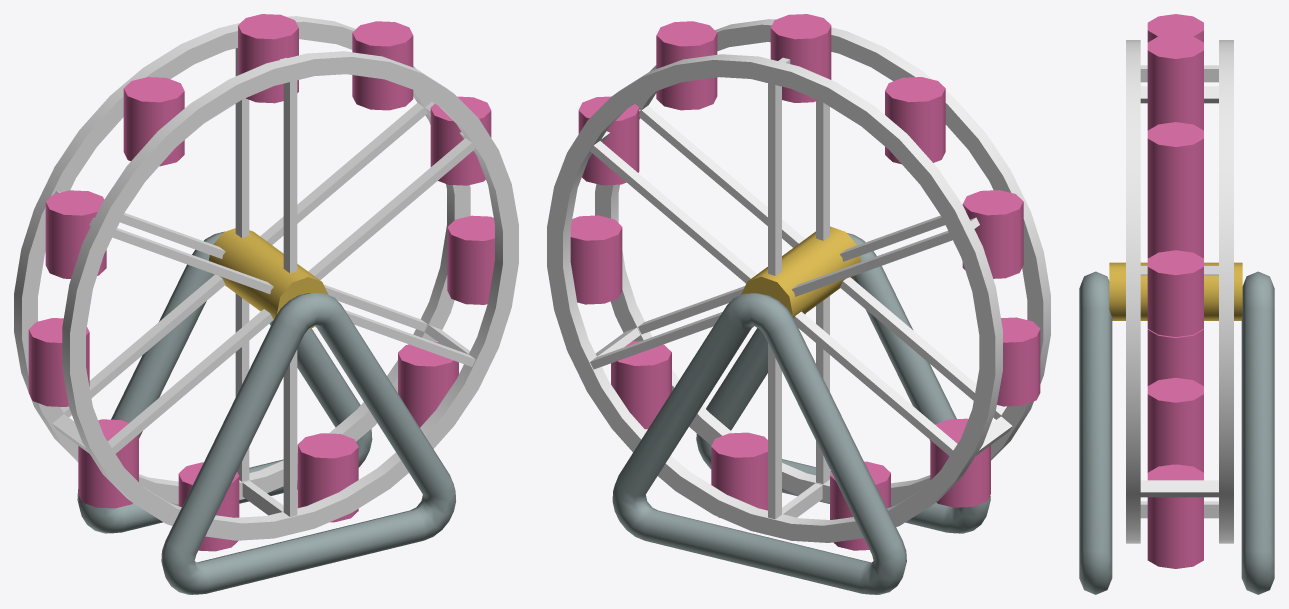
The model's file is carousel02_s01.FBX.
3 views of the same model, side by side, from view 1: azimuth 30°, elevation 25°; view 2: azimuth 150°, elevation 25°; view 3: azimuth 270°, elevation 25° (orthographic). The views are drawn at different scales.
Visible parts, largest first — view 1: carousel02_p01_s01, carousel02_s01, carousel02_p05_s01, carousel02_p07_s01, carousel02_p03_s01, carousel02_p12_s01, carousel02_p11_s01, carousel02_p02_s01, carousel02_p06_s01, carousel02_p10_s01, carousel02_p04_s01, carousel02_p09_s01 (+1 smaller); view 2: carousel02_p01_s01, carousel02_s01, carousel02_p05_s01, carousel02_p12_s01, carousel02_p11_s01, carousel02_p03_s01, carousel02_p07_s01, carousel02_p06_s01, carousel02_p02_s01, carousel02_p10_s01, carousel02_p04_s01, carousel02_p09_s01 (+1 smaller); view 3: carousel02_s01, carousel02_p01_s01, carousel02_p05_s01, carousel02_p03_s01, carousel02_p04_s01, carousel02_p02_s01, carousel02_p06_s01, carousel02_p10_s01, carousel02_p09_s01, carousel02_p12_s01, carousel02_p07_s01, carousel02_p11_s01 (+1 smaller).
Part boxes in pixels (left/top/right/bottom): carousel02_p01_s01: left=14, top=16, right=518, bottom=540; carousel02_s01: left=77, top=231, right=455, bottom=594; carousel02_p05_s01: left=447, top=215, right=494, bottom=304; carousel02_p07_s01: left=297, top=433, right=358, bottom=522; carousel02_p03_s01: left=352, top=21, right=413, bottom=110; carousel02_p12_s01: left=123, top=77, right=184, bottom=166; carousel02_p11_s01: left=45, top=190, right=106, bottom=278; carousel02_p02_s01: left=238, top=14, right=298, bottom=103; carousel02_p06_s01: left=398, top=341, right=458, bottom=427; carousel02_p10_s01: left=28, top=318, right=89, bottom=406; carousel02_p04_s01: left=430, top=96, right=491, bottom=185; carousel02_p09_s01: left=78, top=419, right=138, bottom=508; carousel02_p01_s01: left=547, top=19, right=1050, bottom=542; carousel02_s01: left=612, top=233, right=990, bottom=594; carousel02_p05_s01: left=570, top=215, right=622, bottom=304; carousel02_p12_s01: left=885, top=77, right=945, bottom=164; carousel02_p11_s01: left=962, top=190, right=1023, bottom=278; carousel02_p03_s01: left=656, top=21, right=717, bottom=110; carousel02_p07_s01: left=711, top=432, right=767, bottom=517; carousel02_p06_s01: left=611, top=341, right=671, bottom=429; carousel02_p02_s01: left=770, top=14, right=831, bottom=102; carousel02_p10_s01: left=997, top=317, right=1040, bottom=406; carousel02_p04_s01: left=578, top=96, right=639, bottom=185; carousel02_p09_s01: left=930, top=418, right=990, bottom=507; carousel02_s01: left=1079, top=271, right=1274, bottom=594; carousel02_p01_s01: left=1109, top=40, right=1242, bottom=543; carousel02_p05_s01: left=1147, top=377, right=1203, bottom=464; carousel02_p03_s01: left=1147, top=122, right=1203, bottom=208; carousel02_p04_s01: left=1147, top=250, right=1203, bottom=336; carousel02_p02_s01: left=1147, top=34, right=1203, bottom=120; carousel02_p06_s01: left=1147, top=464, right=1203, bottom=550; carousel02_p10_s01: left=1147, top=200, right=1203, bottom=258; carousel02_p09_s01: left=1147, top=328, right=1203, bottom=385; carousel02_p12_s01: left=1147, top=14, right=1203, bottom=42; carousel02_p07_s01: left=1147, top=542, right=1203, bottom=568; carousel02_p11_s01: left=1147, top=112, right=1203, bottom=130.
Size of the model in its own units: 1086 by 403 by 1123.
1 material, 1 textured.
